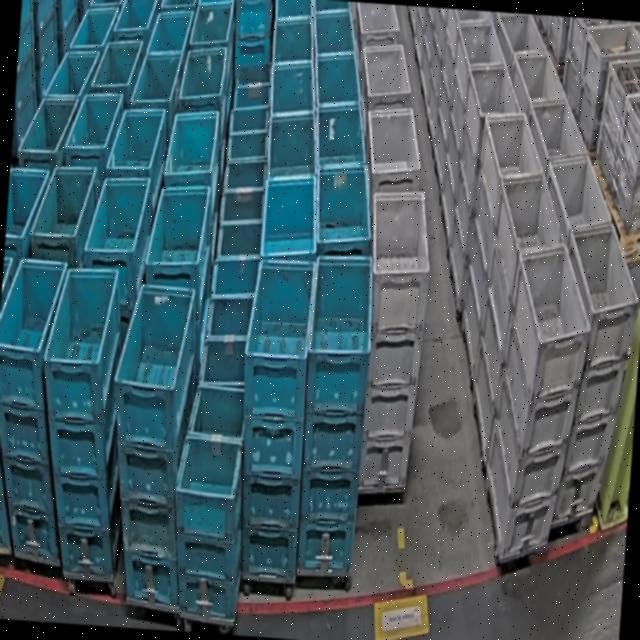4G: (480, 241, 595, 566), (546, 219, 640, 533), (352, 192, 434, 492)
B4: (28, 255, 138, 584), (98, 284, 201, 612), (228, 257, 318, 584), (293, 252, 377, 574), (0, 258, 81, 567)
B8: (166, 380, 250, 621)
